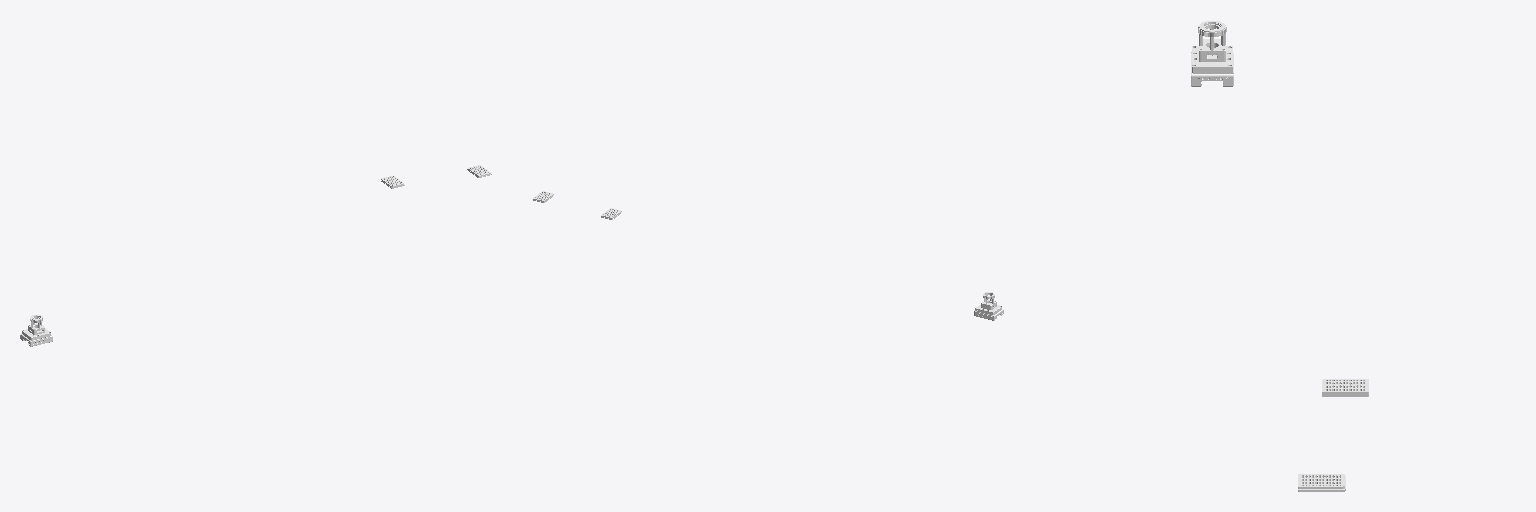
robot.urdf — digital-twin-lab-v4-no-arm:
<?xml version="1.0" encoding="utf-8"?>
<!-- This URDF was automatically created by SolidWorks to URDF Exporter! Originally created by Stephen Brawner ([email redacted]) 
     Commit Version: 1.6.0-4-g7f85cfe  Build Version: 1.6.7995.38578
     For more information, please see http://wiki.ros.org/sw_urdf_exporter -->
<robot
  name="digital-twin-lab-v4-no-arm">
  <link
    name="base_link">
    <inertial>
      <origin
        xyz="0.653049682164994 0.306864386533706 0.21880478316424"
        rpy="0 0 0" />
      <mass
        value="462.943637851792" />
      <inertia
        ixx="36.0265418542219"
        ixy="0.00282870253677005"
        ixz="4.69490018169022E-10"
        iyy="76.7256657120751"
        iyz="-0.0348331755633974"
        izz="67.5997793901125" />
    </inertial>
    <visual>
      <origin
        xyz="0 0 0"
        rpy="0 0 0" />
      <geometry>
        <mesh
          filename="package://digital-twin-lab-v4-no-arm/meshes/base_link.STL" />
      </geometry>
      <material
        name="">
        <color
          rgba="0.752941176470588 0.752941176470588 0.752941176470588 1" />
      </material>
    </visual>
    <collision>
      <origin
        xyz="0 0 0"
        rpy="0 0 0" />
      <geometry>
        <mesh
          filename="package://digital-twin-lab-v4-no-arm/meshes/base_link.STL" />
      </geometry>
    </collision>
  </link>
  <link
    name="slide">
    <inertial>
      <origin
        xyz="-0.072685 0.012592 0.026461"
        rpy="0 0 0" />
      <mass
        value="1.1427" />
      <inertia
        ixx="0.0013664"
        ixy="1.731E-06"
        ixz="-3.1462E-07"
        iyy="0.0015184"
        iyz="1.4936E-06"
        izz="0.0027488" />
    </inertial>
    <visual>
      <origin
        xyz="0 0 0"
        rpy="0 0 0" />
      <geometry>
        <mesh
          filename="package://digital-twin-lab-v4-no-arm/meshes/slide.STL" />
      </geometry>
      <material
        name="">
        <color
          rgba="1 1 1 1" />
      </material>
    </visual>
    <collision>
      <origin
        xyz="0 0 0"
        rpy="0 0 0" />
      <geometry>
        <mesh
          filename="package://digital-twin-lab-v4-no-arm/meshes/slide.STL" />
      </geometry>
    </collision>
  </link>
  <joint
    name="slide-j"
    type="prismatic">
    <origin
      xyz="-1.5388 0.037454 0.0707"
      rpy="0 0 0" />
    <parent
      link="base_link" />
    <child
      link="slide" />
    <axis
      xyz="1 0 0" />
    <limit
      lower="0"
      upper="0"
      effort="0"
      velocity="0" />
  </joint>
  <link
    name="plate-incubator">
    <inertial>
      <origin
        xyz="-4.5959E-05 -7.0533E-05 0.0075381"
        rpy="0 0 0" />
      <mass
        value="0.086824" />
      <inertia
        ixx="0.00012627"
        ixy="2.4074E-07"
        ixz="8.2963E-09"
        iyy="5.6414E-05"
        iyz="1.2739E-08"
        izz="0.00018055" />
    </inertial>
    <visual>
      <origin
        xyz="0 0 0"
        rpy="0 0 0" />
      <geometry>
        <mesh
          filename="package://digital-twin-lab-v4-no-arm/meshes/plate-incubator.STL" />
      </geometry>
      <material
        name="">
        <color
          rgba="1 1 1 1" />
      </material>
    </visual>
    <collision>
      <origin
        xyz="0 0 0"
        rpy="0 0 0" />
      <geometry>
        <mesh
          filename="package://digital-twin-lab-v4-no-arm/meshes/plate-incubator.STL" />
      </geometry>
    </collision>
  </link>
  <joint
    name="plate-incubator-j"
    type="fixed">
    <origin
      xyz="1.4197 0.33999 0.26826"
      rpy="0 0 0" />
    <parent
      link="base_link" />
    <child
      link="plate-incubator" />
    <axis
      xyz="0 0 0" />
  </joint>
  <link
    name="plate-microscope">
    <inertial>
      <origin
        xyz="4.5959E-05 7.0533E-05 0.0075381"
        rpy="0 0 0" />
      <mass
        value="0.086824" />
      <inertia
        ixx="0.00012627"
        ixy="2.4074E-07"
        ixz="-8.2963E-09"
        iyy="5.6414E-05"
        iyz="-1.2739E-08"
        izz="0.00018055" />
    </inertial>
    <visual>
      <origin
        xyz="0 0 0"
        rpy="0 0 0" />
      <geometry>
        <mesh
          filename="package://digital-twin-lab-v4-no-arm/meshes/plate-microscope.STL" />
      </geometry>
      <material
        name="">
        <color
          rgba="1 1 1 1" />
      </material>
    </visual>
    <collision>
      <origin
        xyz="0 0 0"
        rpy="0 0 0" />
      <geometry>
        <mesh
          filename="package://digital-twin-lab-v4-no-arm/meshes/plate-microscope.STL" />
      </geometry>
    </collision>
  </link>
  <joint
    name="plate-microscope-j"
    type="fixed">
    <origin
      xyz="0.89452 0.40325 0.2996"
      rpy="0 0 0" />
    <parent
      link="base_link" />
    <child
      link="plate-microscope" />
    <axis
      xyz="0 0 0" />
  </joint>
</robot>

--- Facts derived from the render (not from the file) ---
Views: 3 orthographic renders of the robot side by side, from view 1: azimuth 30°, elevation 25°; view 2: azimuth 150°, elevation 25°; view 3: azimuth 270°, elevation 25°.
Model digital-twin-lab-v4-no-arm with 4 links and 3 joints (1 prismatic, 2 fixed), rooted at base_link, posed all joints at 0.
Links seen in each view (by area): view 1: slide; view 2: none; view 3: slide, plate-incubator, plate-microscope.
Link boxes in pixels (box(x1,y1,x2,y2)): slide: box(20, 315, 52, 346); slide: box(1191, 20, 1233, 86); plate-incubator: box(1298, 474, 1345, 491); plate-microscope: box(1322, 379, 1368, 396).
Size in the robot's own frame: 3.15 by 0.4743 by 0.2601 metres.
Meshes: 4 distinct files referenced, 3 mesh visuals loaded (3 binary STL); not drawn: 1 (reference not matched to a file when rendering).
